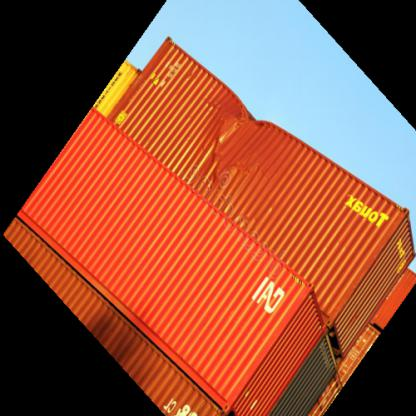Damage: (207, 110, 264, 169)
